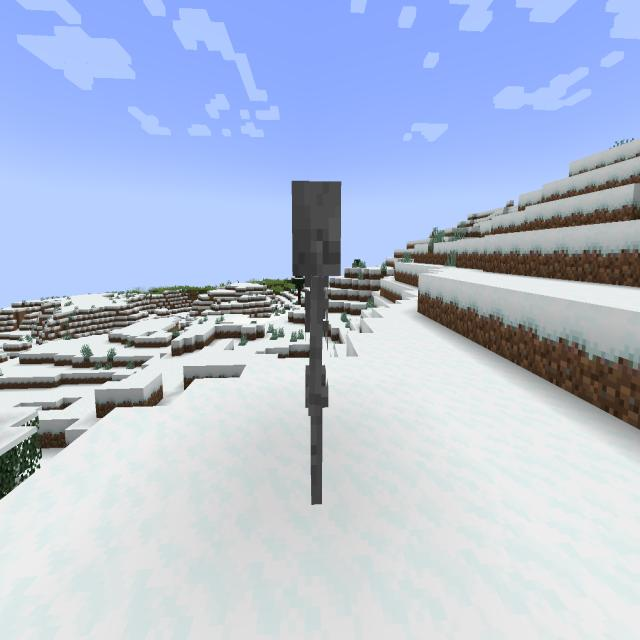Skeleton: (282, 165, 353, 524)
